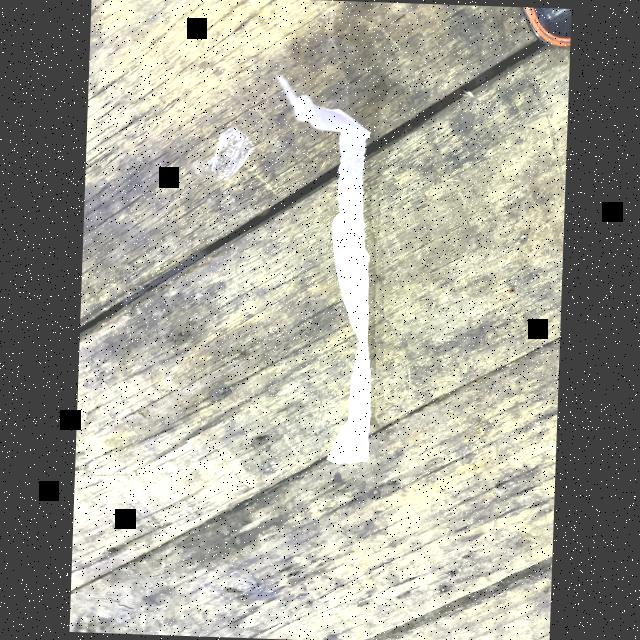scrap_plastic: (275, 84, 384, 467), (205, 124, 246, 182)
